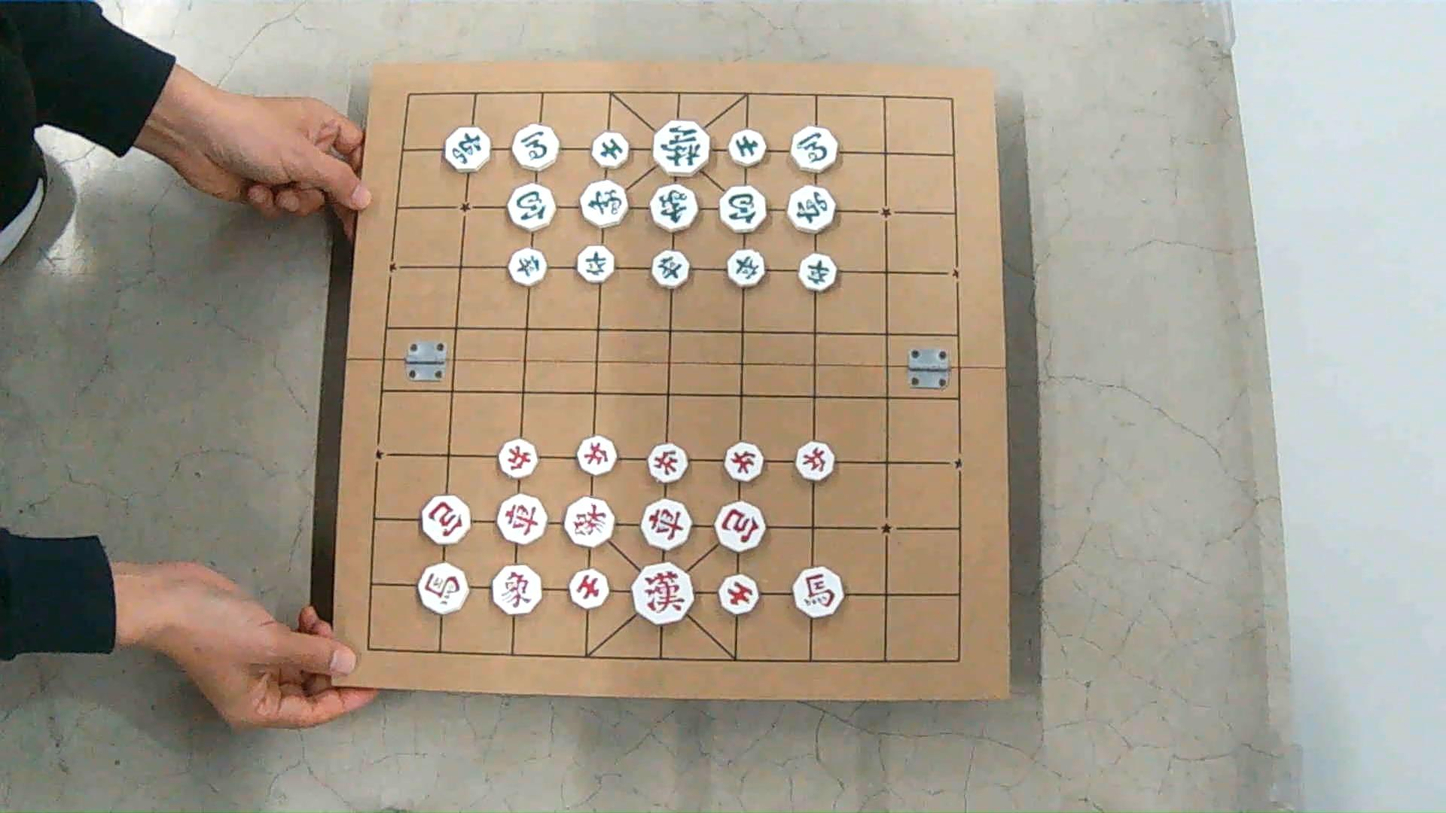cha_green: (788, 185, 838, 233), (445, 126, 491, 172)
cha_red: (642, 499, 692, 549), (498, 495, 548, 544)
jol_green: (728, 249, 766, 288), (800, 253, 838, 291), (651, 250, 689, 288), (508, 248, 546, 285), (577, 245, 614, 282)
jol_red: (795, 441, 835, 481), (498, 439, 538, 479), (577, 436, 617, 476), (648, 443, 687, 483), (725, 442, 764, 482)
ma_green: (790, 126, 840, 172), (512, 124, 560, 170)
ma_red: (418, 562, 468, 614), (793, 566, 843, 617)
po_green: (718, 184, 768, 233), (508, 184, 555, 230)
po_red: (715, 501, 766, 552), (421, 495, 470, 544)
sa_green: (590, 132, 630, 169), (728, 129, 767, 166)
sa_red: (718, 574, 758, 615), (569, 569, 609, 608)
sang_green: (649, 184, 699, 232), (579, 180, 628, 227)
sang_red: (564, 498, 615, 547), (492, 565, 542, 614)
wang_green: (653, 120, 711, 176)
wang_red: (632, 562, 694, 624)
